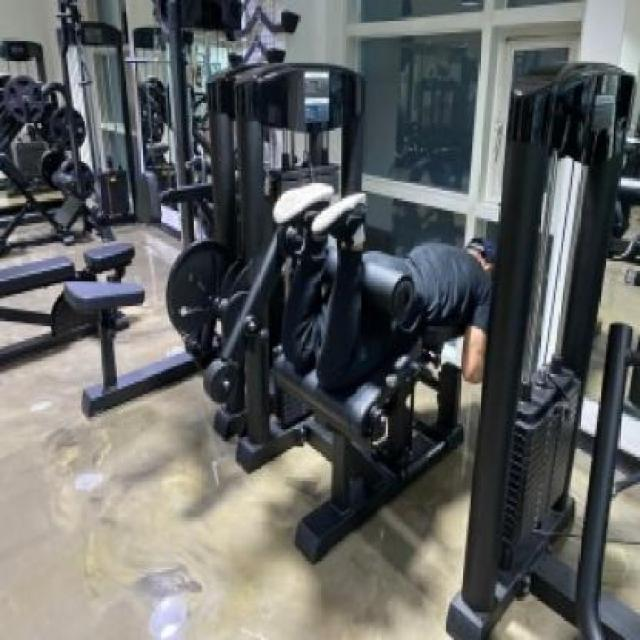reg curl machine: (166, 57, 505, 563)
